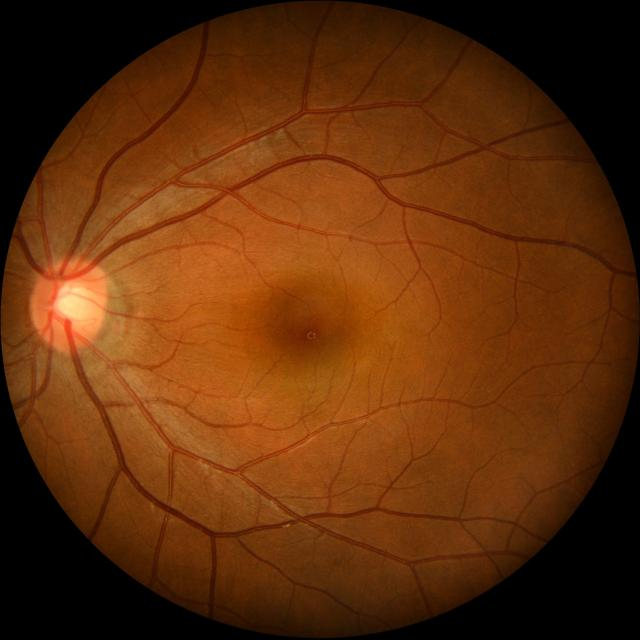OC: (52, 281, 92, 325)
OD: (32, 258, 108, 350)
